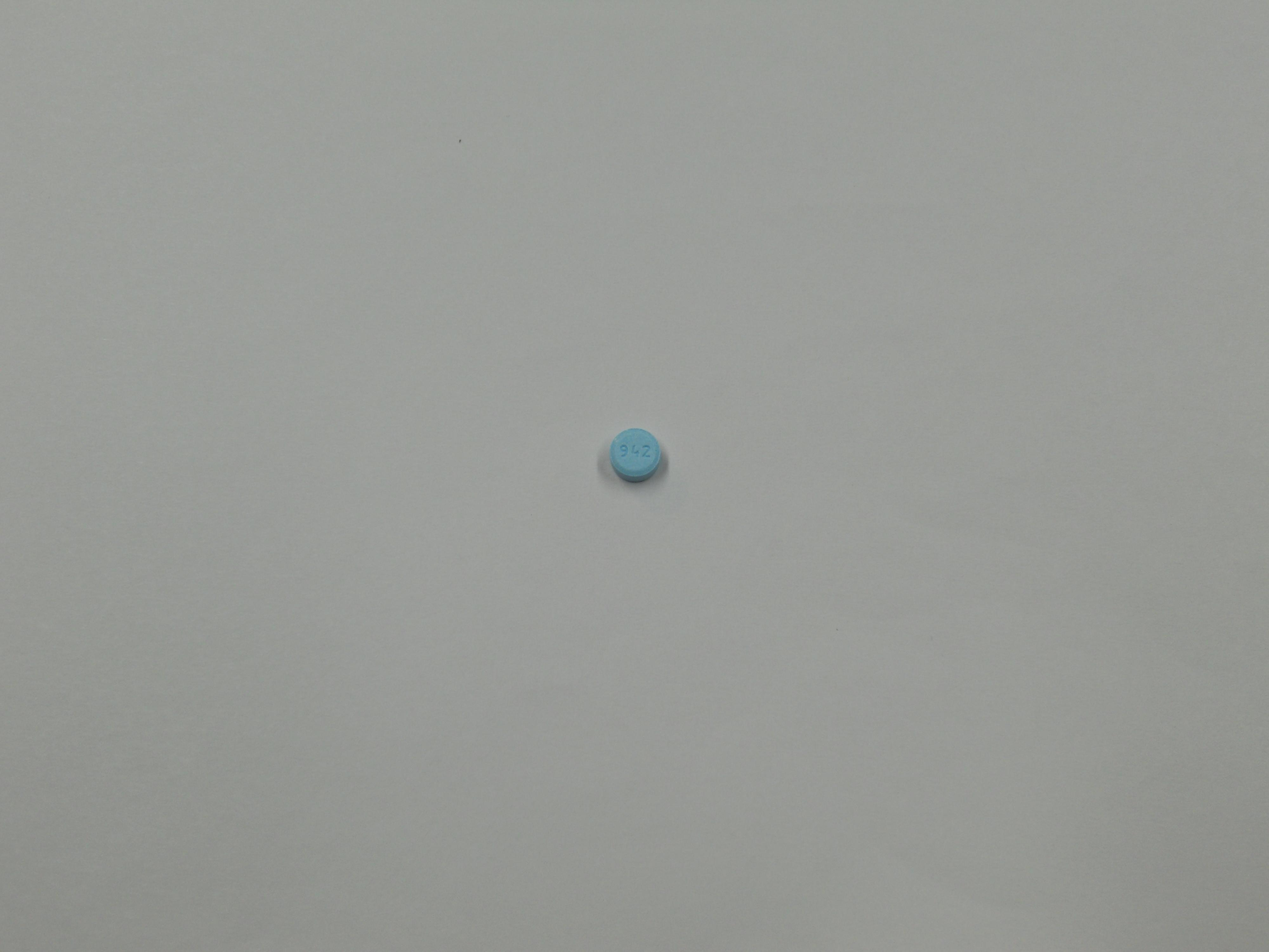Pill: (601, 420, 670, 491)
